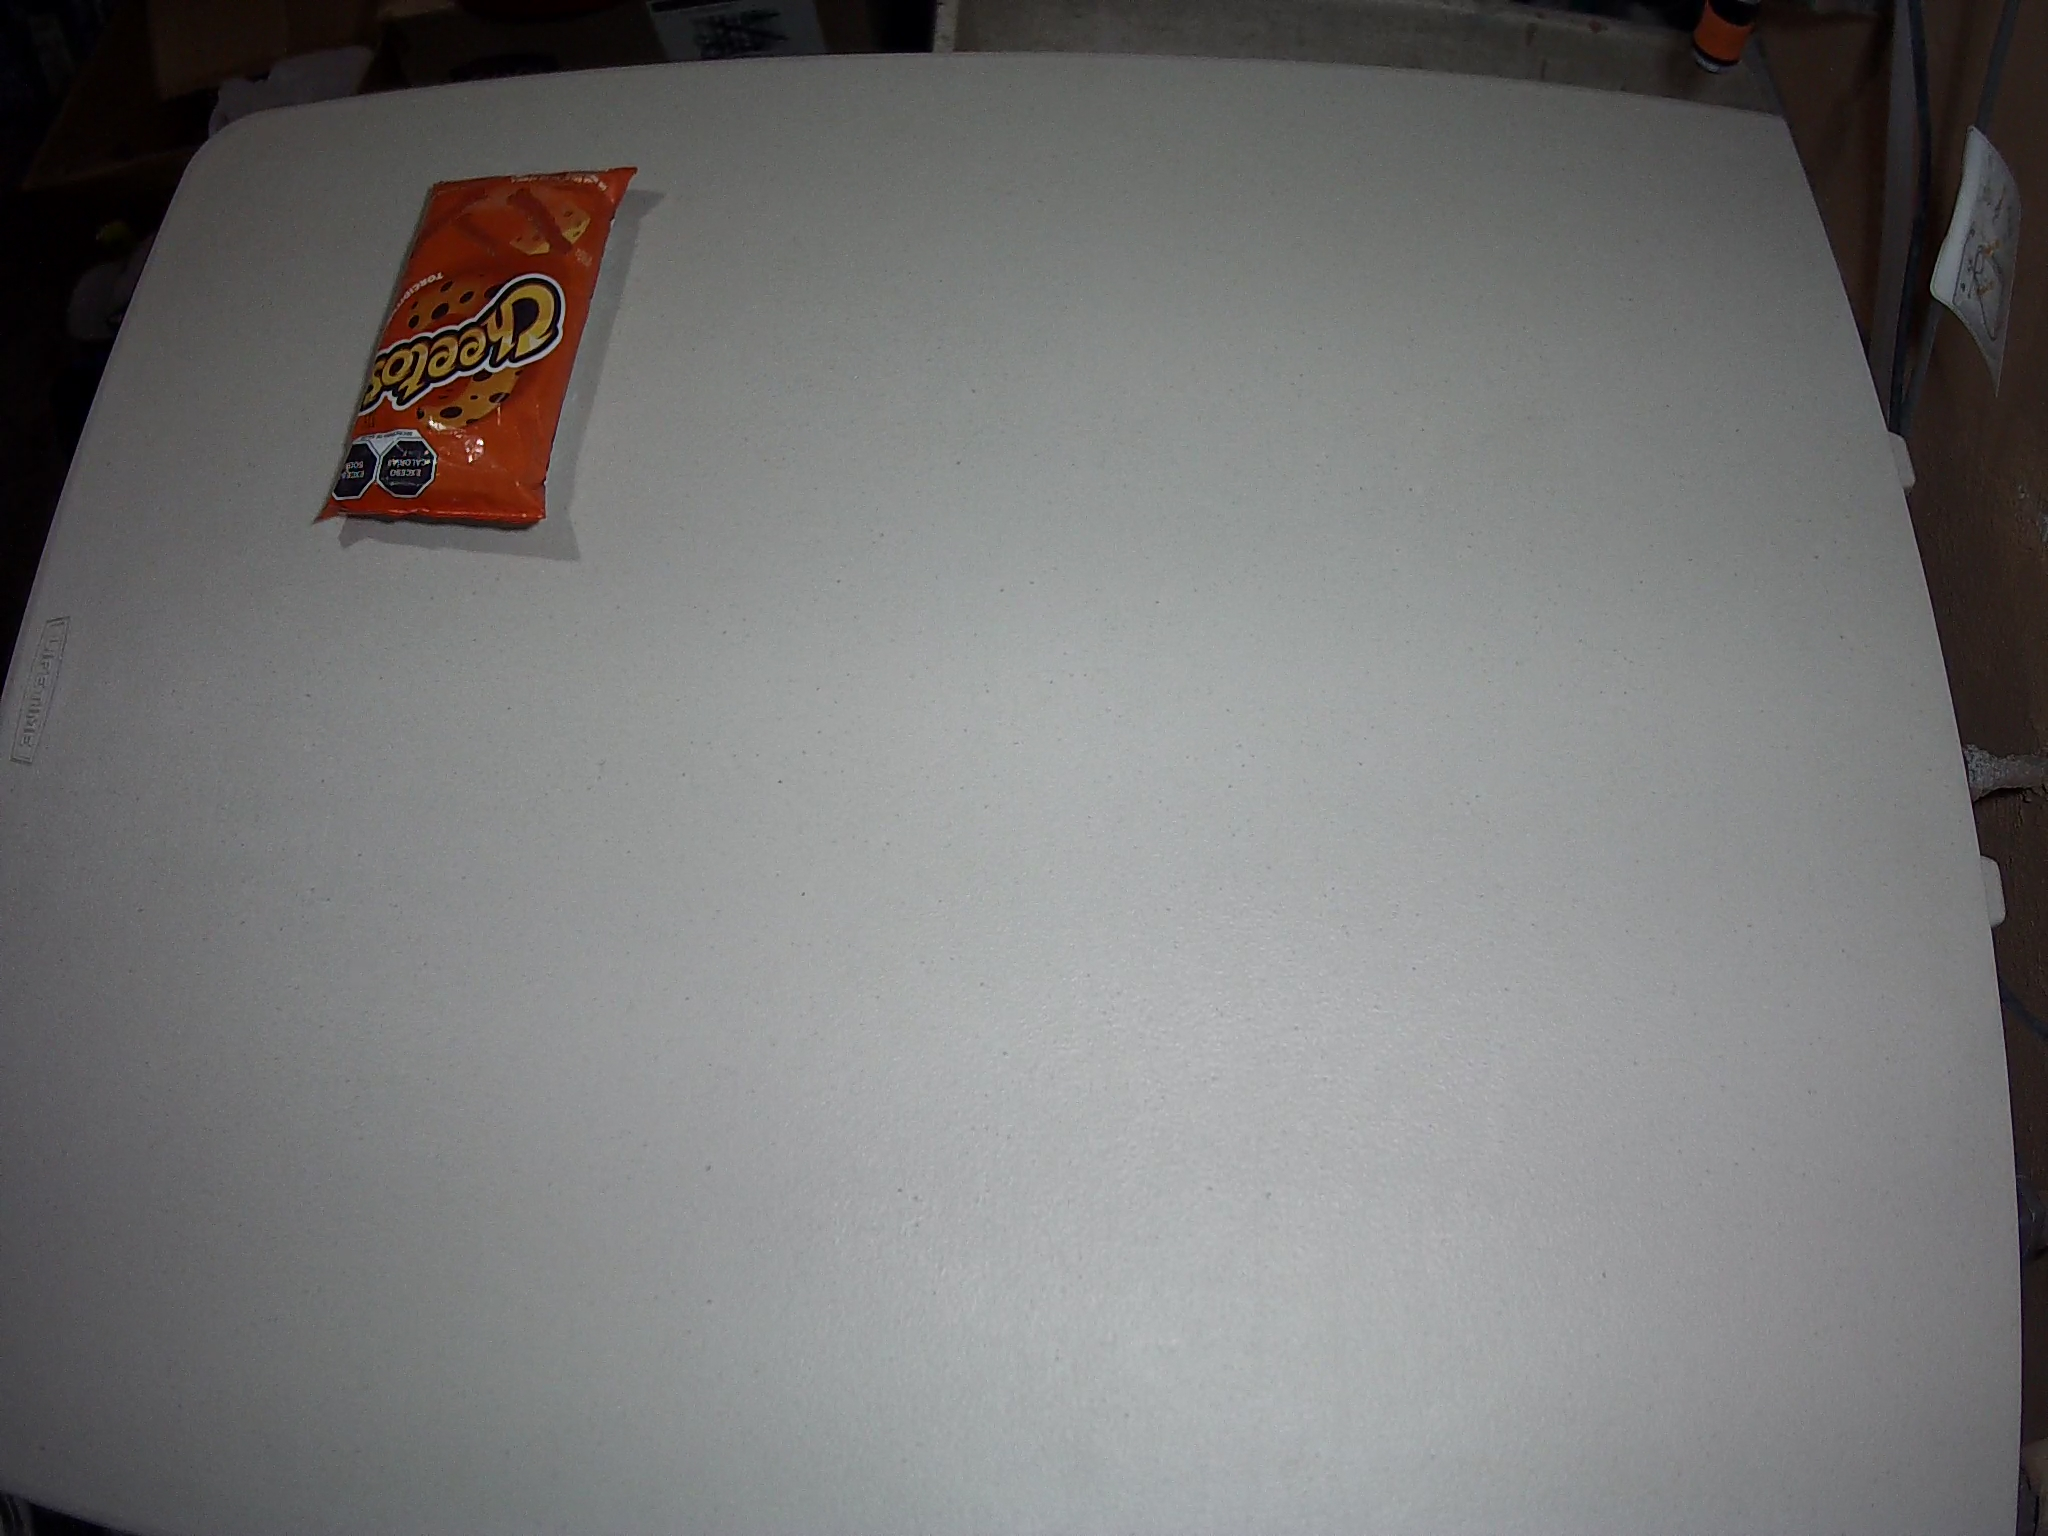CheetosTorciditos_55_F: (314, 165, 639, 529)
